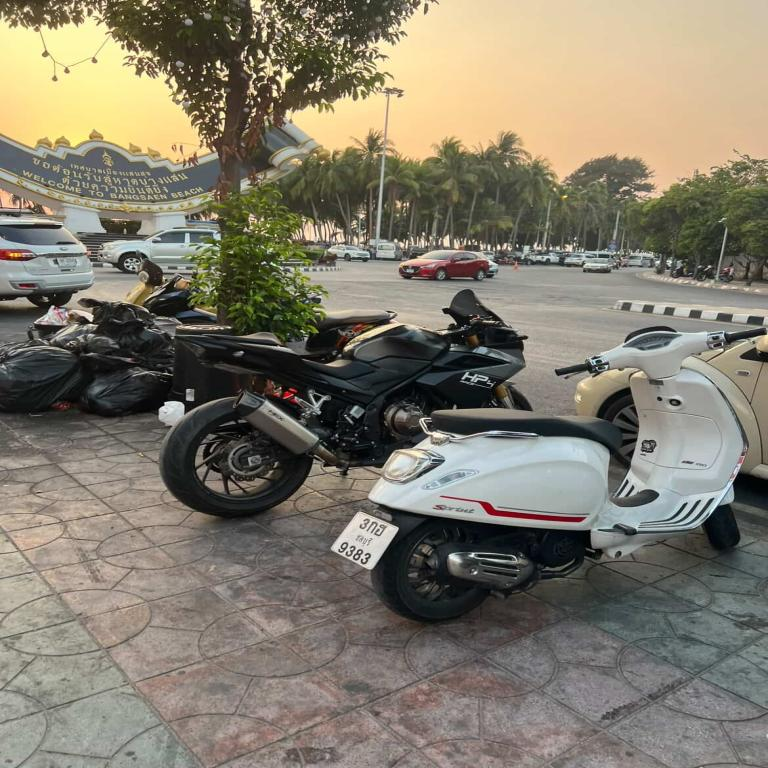license plate: (327, 505, 403, 573)
